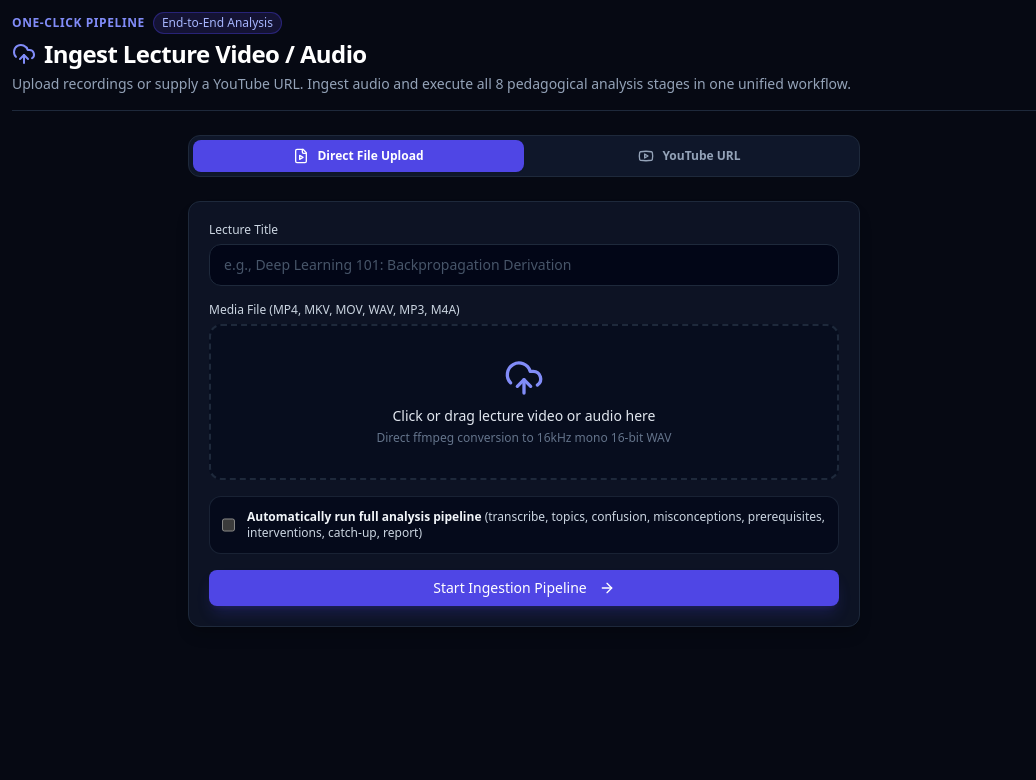
Test case: Phase 1 Ingestion UI Tests › switches between direct file upload and YouTube URL mode
This screenshot has width=1036, height=780.
Check: the button "Direct File Upload" is shown, box [193,140,524,172]
Check: the text "Click or drag lecture video or audio here" is shown, box [392,406,656,425]
// Click YouTube tab
Click the button "YouTube URL" at (690, 156), box [524,140,855,172]
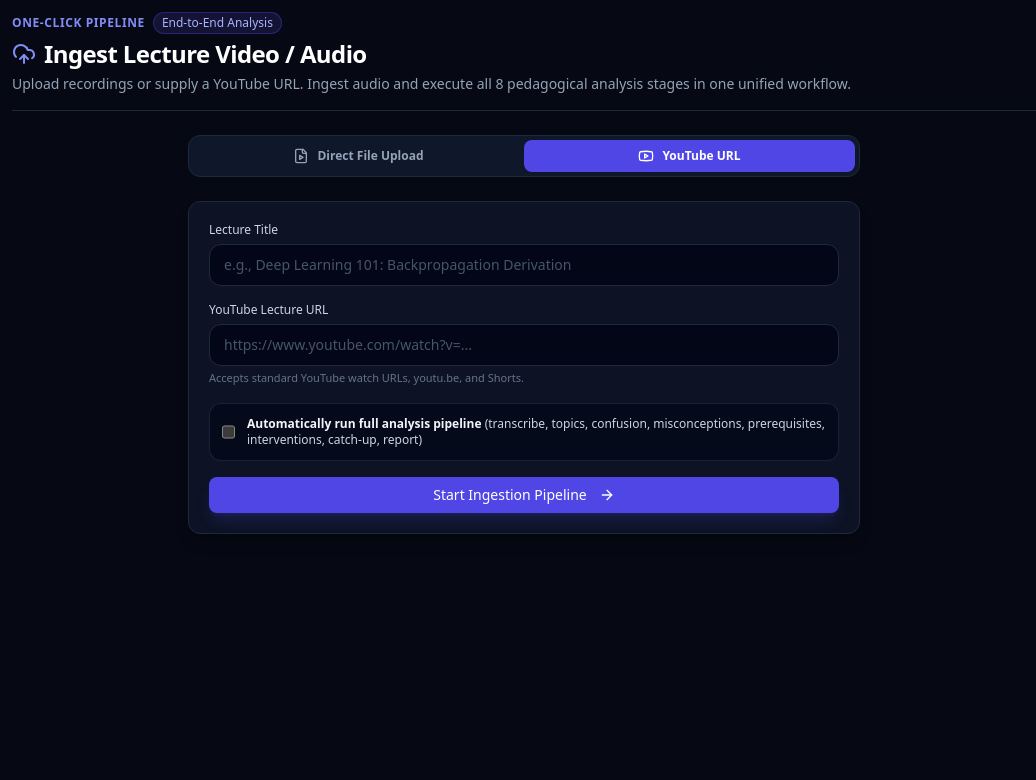
Check: the field with placeholder "https://www.youtube.com/watch?v=..." is shown, box [209,324,839,366]
